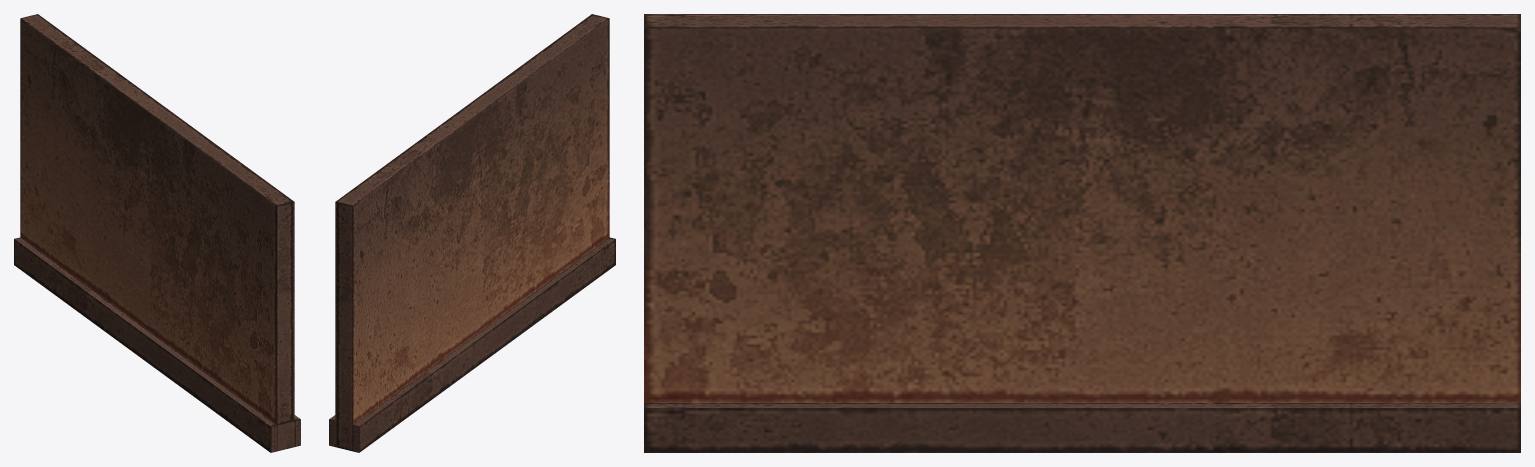
File: Wall_Upper.fbx
3 renders of one model, left to right at view 1: azimuth 30°, elevation 25°; view 2: azimuth 150°, elevation 25°; view 3: azimuth 270°, elevation 25°, orthographic. The views are drawn at different scales.
Visible parts, largest first — view 1: Wall_Upper; view 2: Wall_Upper; view 3: Wall_Upper.
Part boxes in pixels (x1,y1,x2,y2): Wall_Upper: [14, 14, 300, 452]; Wall_Upper: [329, 14, 615, 452]; Wall_Upper: [644, 14, 1520, 452].
Bounding box in the file's own units: 0.4037 × 3.14 × 5.96.
